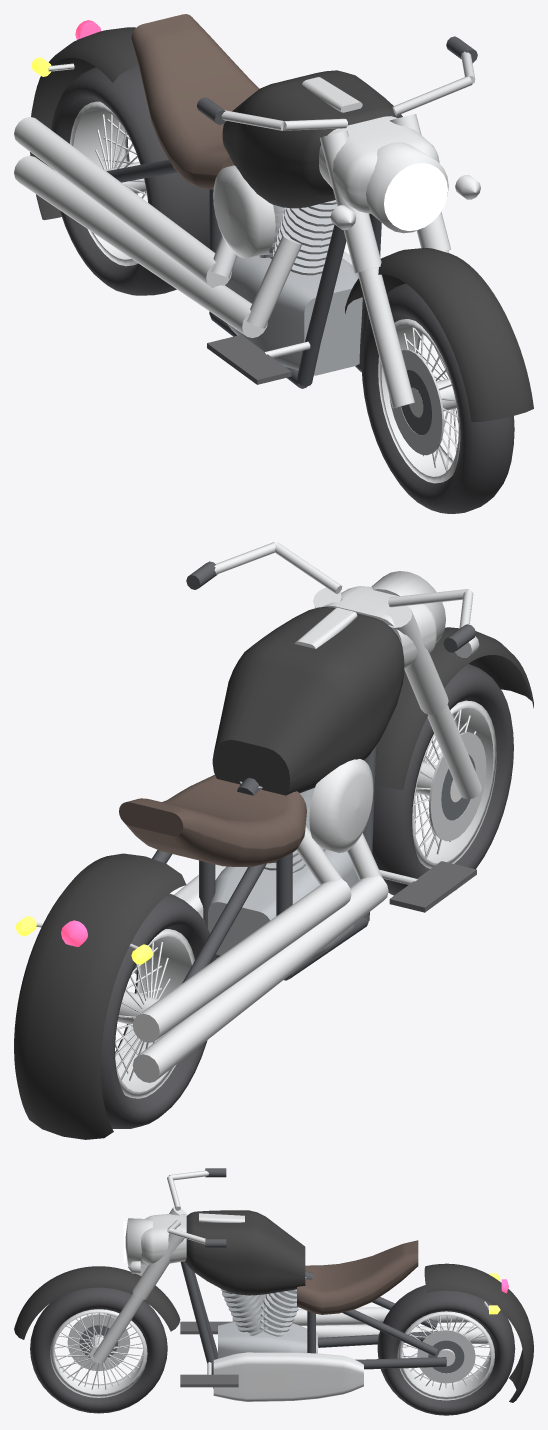
The model's file is motorcycle-cruiser.glb.
The picture shows the model from 3 angles, top to bottom: view 1: azimuth 30°, elevation 25°; view 2: azimuth 150°, elevation 25°; view 3: azimuth 270°, elevation 25°; orthographic projection. The views are drawn at different scales.
Parts seen in each view (by area): view 1: motorcycle-cruiser; view 2: motorcycle-cruiser; view 3: motorcycle-cruiser.
Part boxes in pixels (bbox=[...]): motorcycle-cruiser: bbox=[14, 14, 533, 513]; motorcycle-cruiser: bbox=[14, 542, 533, 1139]; motorcycle-cruiser: bbox=[14, 1168, 533, 1415].
Size of the model in its own units: 0.844 by 1.11 by 2.49.
